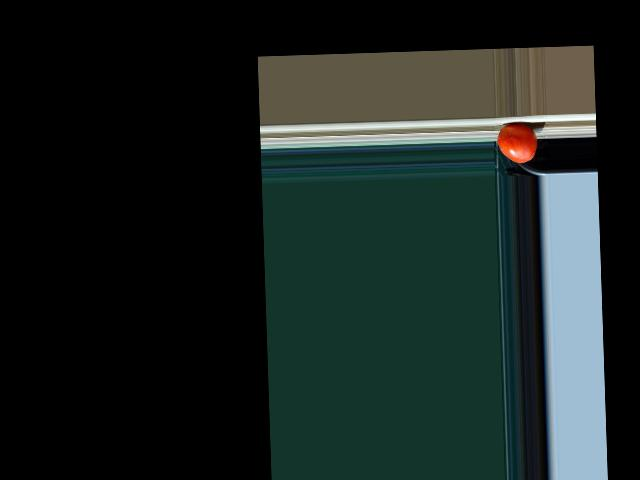tomato: (497, 123, 537, 164)
